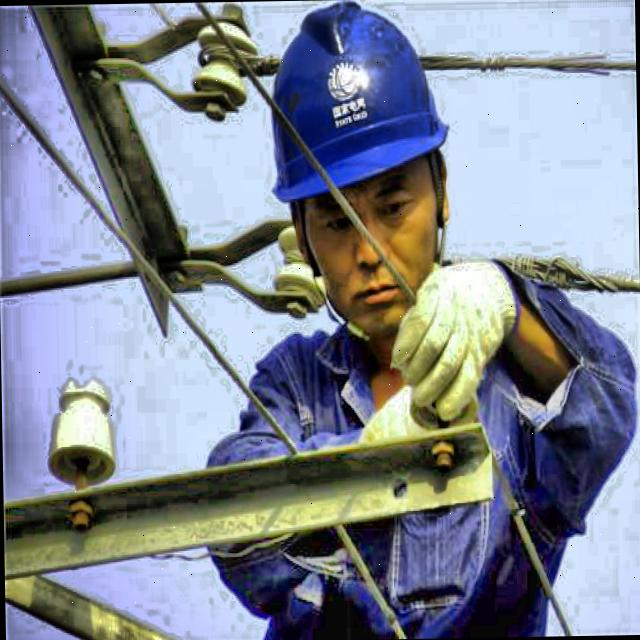helmet: (248, 6, 471, 348)
